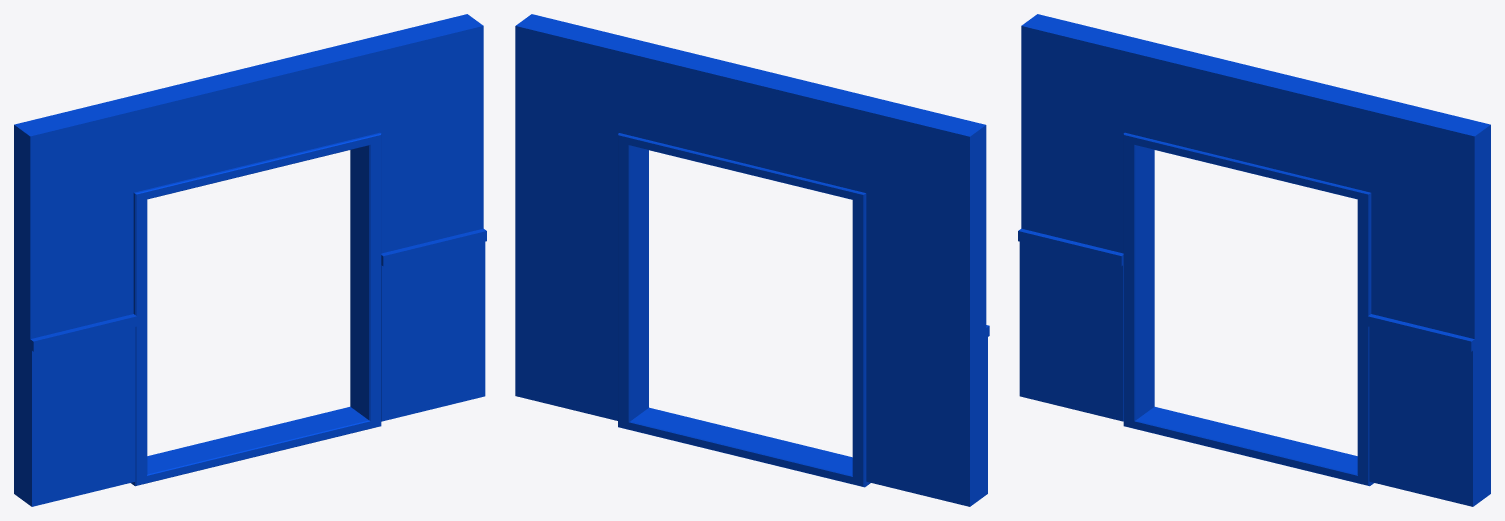
The model's file is SecurityDoorWay.fbx.
3 views of the same model, side by side, from view 1: azimuth 30°, elevation 25°; view 2: azimuth 150°, elevation 25°; view 3: azimuth 330°, elevation 25° (orthographic).
Parts seen in each view (by area): view 1: SecurityDoorway; view 2: SecurityDoorway; view 3: SecurityDoorway.
Boxes of the visible parts, x1,y1,x2,y2 form: SecurityDoorway: (14,14,486,506); SecurityDoorway: (515,14,989,506); SecurityDoorway: (1018,14,1490,506).
Bounding box in the file's own units: 276 × 350 × 28.47.
